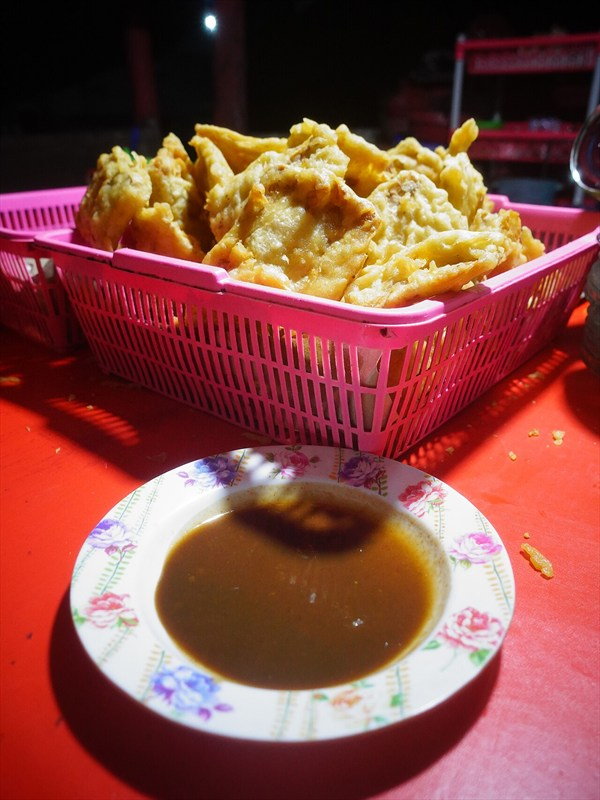Tempe Goreng: (54, 112, 554, 728)
